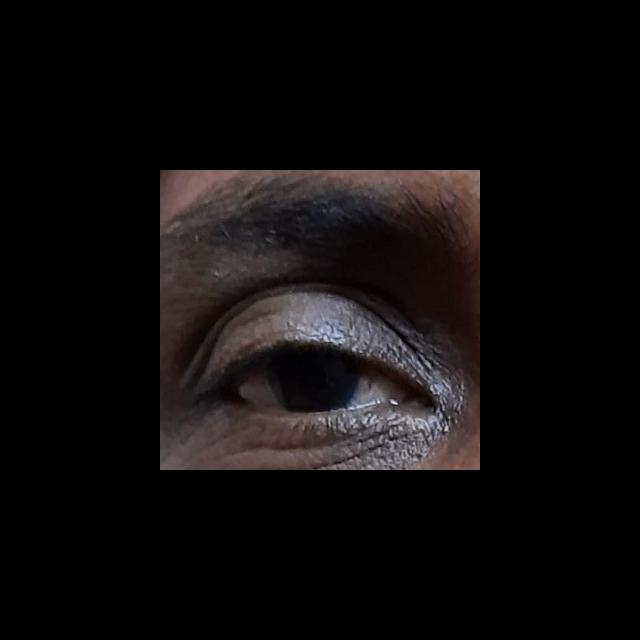eye: (235, 350, 401, 414)
iris: (271, 353, 361, 410)
